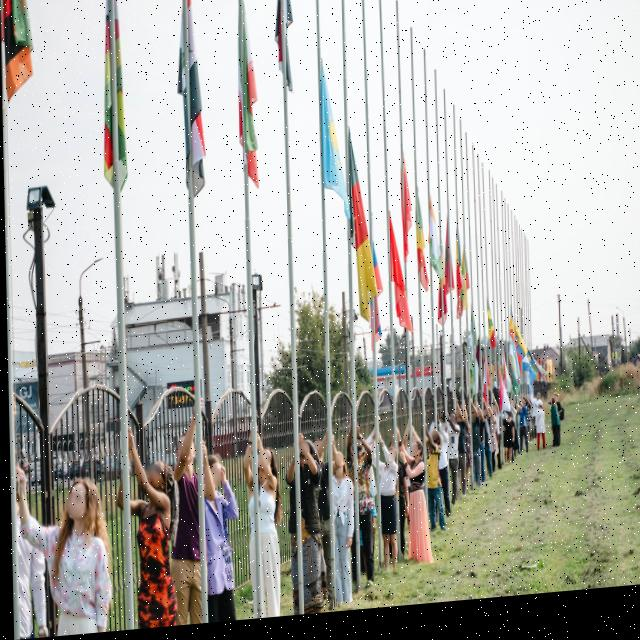Person: (41, 465, 104, 637), (132, 445, 173, 631), (283, 433, 323, 621), (241, 431, 277, 624), (199, 456, 234, 626), (176, 427, 203, 628), (372, 443, 403, 597), (324, 442, 351, 618), (346, 428, 372, 603), (404, 437, 431, 575), (440, 422, 461, 525), (423, 435, 443, 539), (434, 429, 450, 531), (451, 414, 466, 513), (465, 414, 480, 504), (478, 415, 489, 497), (499, 416, 512, 476), (517, 409, 528, 468), (532, 409, 544, 463), (508, 410, 519, 467), (550, 402, 561, 455), (548, 404, 558, 458), (491, 411, 498, 477), (532, 400, 541, 426)
